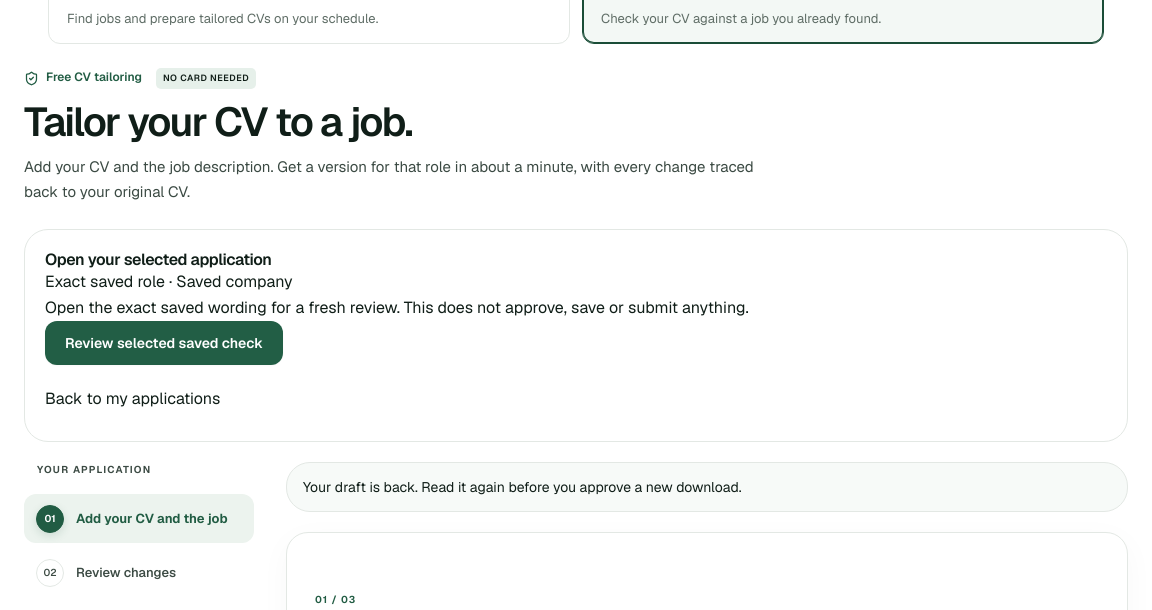
Scenario: independent exact application source review › withdraws replacement permission after a current-draft edit
Click the button "Review selected saved check": {"x": 164, "y": 343} [45,321,283,365]
(page scrolled)
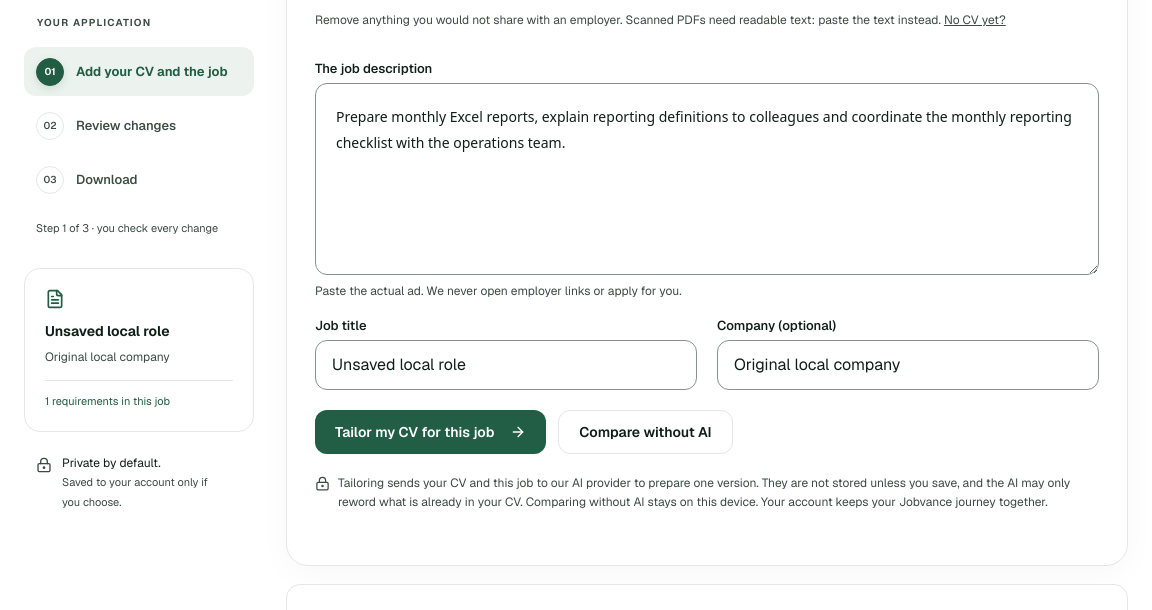
Replace the text in the field labelled "Job title" with "Edited after replacement prompt": {"x": 506, "y": 365} [315,340,697,390]
(page scrolled)
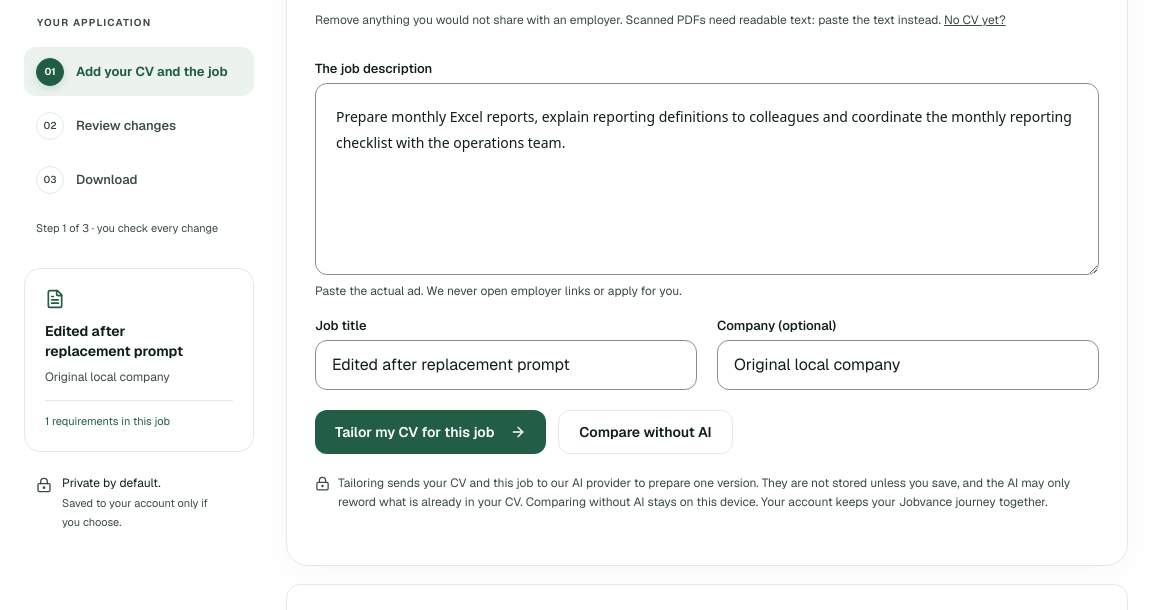
expect the text "Edited after replacement prompt" is shown: met, box [45,322,183,360]
